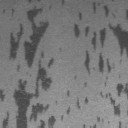red iron: (0, 0, 90, 128), (72, 0, 128, 128), (66, 90, 70, 98), (61, 0, 66, 6), (58, 46, 62, 52), (72, 76, 77, 80), (84, 82, 87, 87)
